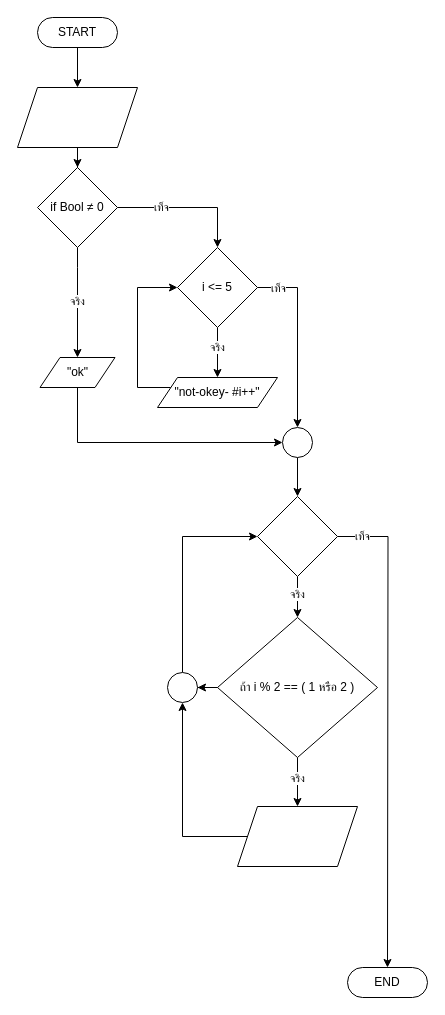
Image size: 445x1015. Some labels were removed from this diagram. Each missing label, with the centre of its shape:
"#ค่าของ Bool": point 77,117
"see see ha ha": point 297,836
i = 3 ถ้า i < 10 i ++: point 297,536
